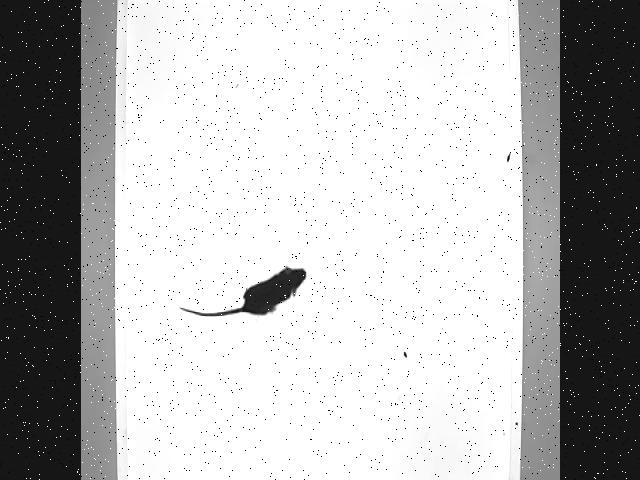Tikus: (175, 259, 311, 323)
